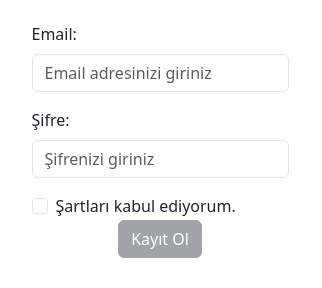
Login Page › Error Messages › Email input throws error for invalid type
Type "oguzhanwit.com" into the field with test id "form-email" at [161, 73], box [32,54,289,92]
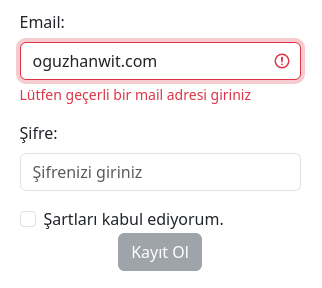
Expected: the text "Lütfen geçerli bir mail adresi giriniz" is shown, [20,84,251,104]
